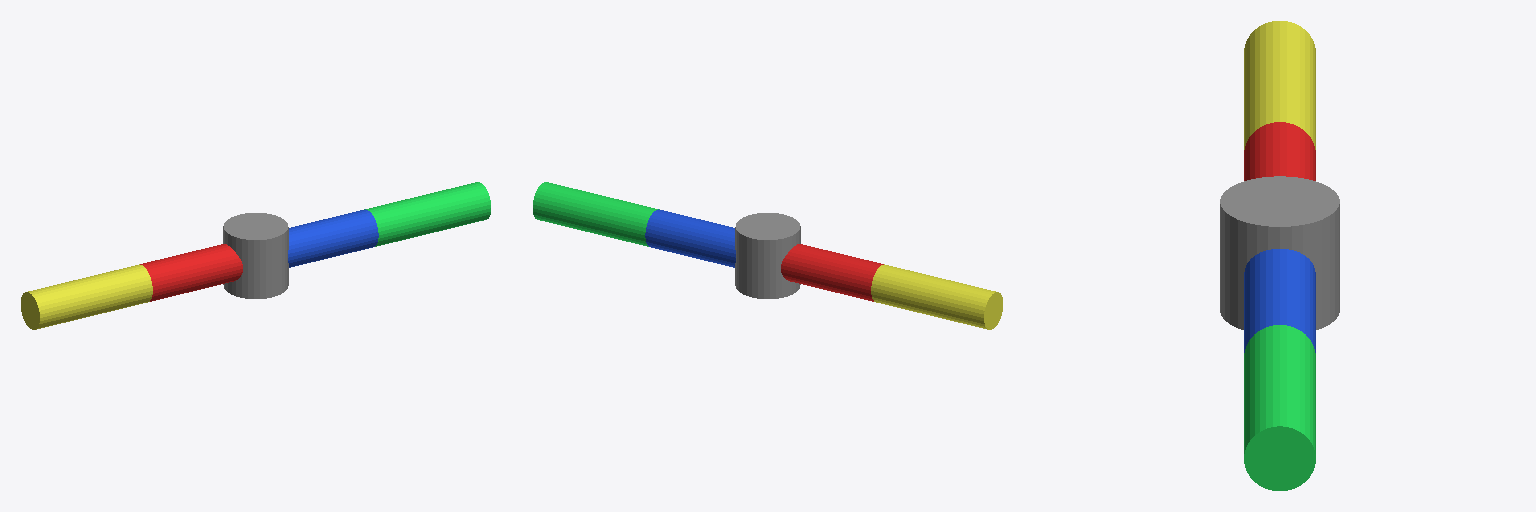
The robot description file, URDF, robot "simple_2dof_robot_with_two_arms":
<?xml version="1.0"?>
<robot name="simple_2dof_robot_with_two_arms">
  <!-- Base parent (world frame) -->
  <link name="world"/>

  <!-- Base link -->
  <link name="base_link">
    <inertial>
      <origin xyz="0 0 0"/>
      <mass value="2.0"/>
      <inertia ixx="0.01" iyy="0.01" izz="0.01" ixy="0" ixz="0" iyz="0"/>
    </inertial>
    <visual>
      <geometry>
        <cylinder length="0.1" radius="0.05"/>
      </geometry>
      <material name="gray">
        <color rgba="0.6 0.6 0.6 1"/>
      </material>
    </visual>
    <collision>
      <geometry>
        <cylinder length="0.1" radius="0.05"/>
      </geometry>
    </collision>
  </link>

  <!-- Base joint: revolute joint connecting base_link to world -->
  <joint name="base_joint" type="revolute">
    <parent link="world"/>
    <child link="base_link"/>
    <origin xyz="0 0 0" rpy="0 0 0"/>
    <axis xyz="0 0 1"/>
    <limit lower="-3.14" upper="3.14" effort="10" velocity="2"/>
  </joint>

  <!-- Link 1 -->
  <link name="link1">
    <inertial>
      <origin xyz="0 0 0"/>
      <mass value="1.0"/>
      <inertia ixx="0.005" iyy="0.005" izz="0.005" ixy="0" ixz="0" iyz="0"/>
    </inertial>
    <visual>
      <origin xyz="0.1 0 0" rpy="0 1.5708 0"/>
      <geometry>
        <cylinder length="0.2" radius="0.03"/>
      </geometry>
      <material name="blue">
        <color rgba="0.2 0.4 0.9 1"/>
      </material>
    </visual>
    <collision>
      <origin xyz="0.1 0 0" rpy="0 1.5708 0"/>
      <geometry>
        <cylinder length="0.2" radius="0.03"/>
      </geometry>
    </collision>
  </link>

  <!-- Link 2 -->
  <link name="link2">
    <inertial>
      <origin xyz="0 0 0"/>
      <mass value="1.0"/>
      <inertia ixx="0.005" iyy="0.005" izz="0.005" ixy="0" ixz="0" iyz="0"/>
    </inertial>
    <visual>
      <origin xyz="0.1 0 0" rpy="0 1.5708 0"/>
      <geometry>
        <cylinder length="0.2" radius="0.03"/>
      </geometry>
      <material name="green">
        <color rgba="0.2 0.9 0.4 1"/>
      </material>
    </visual>
    <collision>
      <origin xyz="0.1 0 0" rpy="0 1.5708 0"/>
      <geometry>
        <cylinder length="0.2" radius="0.03"/>
      </geometry>
    </collision>
  </link>

  <!-- Joint 1: connects base_link to link1 (POSITIVE X direction) -->
  <joint name="joint1" type="revolute">
    <parent link="base_link"/>
    <child link="link1"/>
    <origin xyz="0 0 0" rpy="0 0 0"/>
    <axis xyz="0 0 1"/>
    <limit lower="-3.14" upper="3.14" effort="10" velocity="2"/>
  </joint>

  <!-- Joint 2: connects link1 to link2 -->
  <joint name="joint2" type="revolute">
    <parent link="link1"/>
    <child link="link2"/>
    <origin xyz="0.2 0 0" rpy="0 0 0"/>
    <axis xyz="0 0 1"/>
    <limit lower="-3.14" upper="3.14" effort="10" velocity="2"/>
  </joint>

  <!-- Link 3: second arm, on the NEGATIVE X side -->
  <link name="link3">
    <inertial>
      <origin xyz="0 0 0"/>
      <mass value="1.0"/>
      <inertia ixx="0.005" iyy="0.005" izz="0.005" ixy="0" ixz="0" iyz="0"/>
    </inertial>
    <visual>
      <origin xyz="-0.1 0 0" rpy="0 1.5708 0"/>
      <geometry>
        <cylinder length="0.2" radius="0.03"/>
      </geometry>
      <material name="red">
        <color rgba="0.9 0.2 0.2 1"/>
      </material>
    </visual>
    <collision>
      <origin xyz="-0.1 0 0" rpy="0 1.5708 0"/>
      <geometry>
        <cylinder length="0.2" radius="0.03"/>
      </geometry>
    </collision>
  </link>

  <!-- Link 4: second arm's extension -->
  <link name="link4">
    <inertial>
      <origin xyz="0 0 0"/>
      <mass value="1.0"/>
      <inertia ixx="0.005" iyy="0.005" izz="0.005" ixy="0" ixz="0" iyz="0"/>
    </inertial>
    <visual>
      <origin xyz="-0.1 0 0" rpy="0 1.5708 0"/>
      <geometry>
        <cylinder length="0.2" radius="0.03"/>
      </geometry>
      <material name="yellow">
        <color rgba="0.9 0.9 0.3 1"/>
      </material>
    </visual>
    <collision>
      <origin xyz="-0.1 0 0" rpy="0 1.5708 0"/>
      <geometry>
        <cylinder length="0.2" radius="0.03"/>
      </geometry>
    </collision>
  </link>

  <!-- Joint 3: connects base_link to link3 (NEGATIVE X direction) -->
  <joint name="joint3" type="revolute">
    <parent link="base_link"/>
    <child link="link3"/>
    <origin xyz="0 0 0" rpy="0 0 0"/>
    <axis xyz="0 0 1"/>
    <limit lower="-3.14" upper="3.14" effort="10" velocity="2"/>
  </joint>

  <!-- Joint 4: connects link3 to link4 -->
  <joint name="joint4" type="revolute">
    <parent link="link3"/>
    <child link="link4"/>
    <origin xyz="-0.2 0 0" rpy="0 0 0"/>
    <axis xyz="0 0 1"/>
    <limit lower="-3.14" upper="3.14" effort="10" velocity="2"/>
  </joint>
</robot>

--- Facts derived from the render (not from the file) ---
The picture shows the robot from 3 angles, left to right: view 1: azimuth 30°, elevation 25°; view 2: azimuth 150°, elevation 25°; view 3: azimuth 270°, elevation 25°; orthographic projection.
Model simple_2dof_robot_with_two_arms with 6 links and 5 joints (5 revolute), rooted at world, posed every joint at zero.
Links seen in each view (by area): view 1: link4, base_link, link2, link3, link1; view 2: link4, base_link, link2, link3, link1; view 3: base_link, link2, link4, link1, link3.
Boxes of the visible links, bbox=[...] form: link4: bbox=[21, 264, 152, 329]; base_link: bbox=[223, 213, 288, 298]; link2: bbox=[364, 182, 490, 246]; link3: bbox=[140, 244, 242, 301]; link1: bbox=[288, 209, 378, 267]; link4: bbox=[871, 264, 1002, 329]; base_link: bbox=[735, 213, 800, 298]; link2: bbox=[533, 182, 659, 246]; link3: bbox=[781, 244, 883, 301]; link1: bbox=[645, 209, 735, 267]; base_link: bbox=[1220, 176, 1339, 329]; link2: bbox=[1244, 325, 1315, 490]; link4: bbox=[1244, 21, 1315, 149]; link1: bbox=[1244, 249, 1315, 352]; link3: bbox=[1244, 122, 1315, 180].
Size in the robot's own frame: 0.8 by 0.1 by 0.1 metres.
Geometry: primitives only (box / cylinder / sphere), no mesh files.
